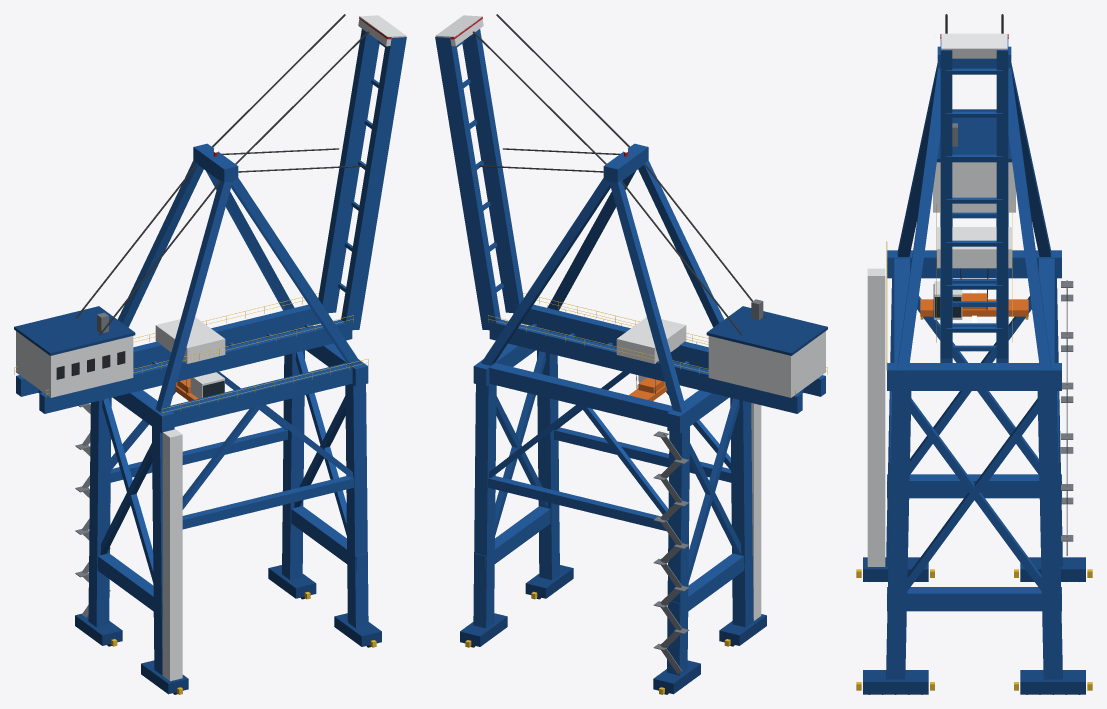
Rendered from sts_crane_boom_up.glb.
3 views of the same model, side by side, from view 1: azimuth 30°, elevation 25°; view 2: azimuth 150°, elevation 25°; view 3: azimuth 270°, elevation 25° (orthographic). The views are drawn at different scales.
Parts seen in each view (by area): view 1: sts; view 2: sts; view 3: sts.
Boxes of the visible parts, x1,y1,x2,y2 form: sts: [14, 14, 406, 694]; sts: [435, 14, 827, 694]; sts: [856, 14, 1092, 694].
Size of the model in its own units: 57.17 by 88.05 by 27.
